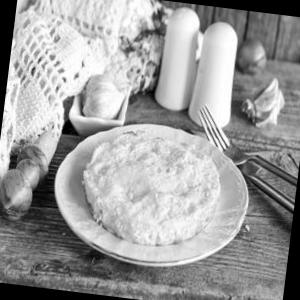omelet: (60, 120, 236, 258)
